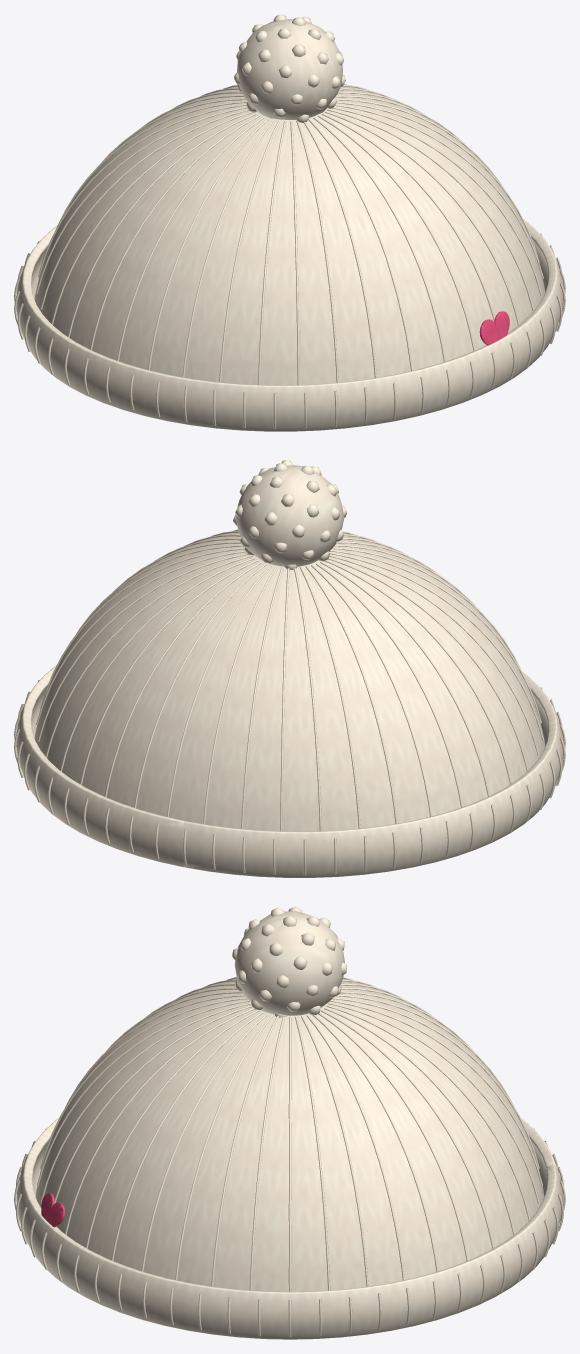
File: restart_headfinish_beanie_cloud_penguin.glb
3 renders of one model, top to bottom at view 1: azimuth 30°, elevation 25°; view 2: azimuth 150°, elevation 25°; view 3: azimuth 270°, elevation 25°, orthographic. The views are drawn at different scales.
Visible parts, largest first — view 1: Copa redondeada, Dobladillo tejido, Pompón, Punto tejido de la copa.030, Punto tejido de la copa.004, Punto tejido de la copa.005, Punto tejido de la copa.029, Punto tejido de la copa.031, Punto tejido de la copa.037, Punto tejido de la copa.036, Punto tejido de la copa.028, Punto tejido de la copa.038 (+16 smaller); view 2: Copa redondeada, Dobladillo tejido, Pompón, Punto tejido de la copa.015, Punto tejido de la copa.030, Punto tejido de la copa.031, Punto tejido de la copa.016, Punto tejido de la copa.029, Punto tejido de la copa.023, Punto tejido de la copa.017, Punto tejido de la copa.028, Punto tejido de la copa.018 (+15 smaller); view 3: Copa redondeada, Dobladillo tejido, Pompón, Punto tejido de la copa.009, Punto tejido de la copa.011, Punto tejido de la copa.018, Punto tejido de la copa.017, Punto tejido de la copa.010, Punto tejido de la copa.003, Punto tejido de la copa.004, Punto tejido de la copa.016, Punto tejido de la copa.008 (+15 smaller).
Part boxes in pixels (x1,y1,x2,y2): Copa redondeada: [34, 86, 545, 385]; Dobladillo tejido: [16, 219, 563, 431]; Pompón: [237, 19, 342, 119]; Punto tejido de la copa.030: [68, 113, 256, 337]; Punto tejido de la copa.004: [325, 111, 519, 325]; Punto tejido de la copa.005: [327, 108, 534, 311]; Punto tejido de la copa.029: [51, 111, 252, 324]; Punto tejido de la copa.031: [90, 115, 259, 350]; Punto tejido de la copa.037: [290, 120, 299, 385]; Punto tejido de la copa.036: [258, 120, 286, 384]; Punto tejido de la copa.028: [40, 109, 248, 309]; Punto tejido de la copa.038: [296, 121, 338, 382]; Copa redondeada: [34, 531, 545, 831]; Dobladillo tejido: [16, 665, 563, 877]; Pompón: [235, 465, 344, 566]; Punto tejido de la copa.015: [45, 555, 252, 757]; Punto tejido de la copa.030: [325, 560, 511, 784]; Punto tejido de la copa.031: [328, 557, 528, 771]; Punto tejido de la copa.016: [60, 557, 254, 771]; Punto tejido de la copa.029: [320, 561, 489, 796]; Punto tejido de la copa.023: [280, 568, 289, 831]; Punto tejido de la copa.017: [80, 559, 258, 784]; Punto tejido de la copa.028: [316, 563, 462, 807]; Punto tejido de la copa.018: [104, 561, 261, 797]; Copa redondeada: [35, 978, 544, 1291]; Dobladillo tejido: [16, 1117, 563, 1339]; Pompón: [234, 911, 344, 1015]; Punto tejido de la copa.009: [249, 1016, 284, 1290]; Punto tejido de la copa.011: [295, 1016, 330, 1290]; Punto tejido de la copa.018: [326, 1005, 530, 1220]; Punto tejido de la copa.017: [324, 1007, 514, 1234]; Punto tejido de la copa.010: [288, 1016, 291, 1291]; Punto tejido de la copa.003: [65, 1008, 254, 1234]; Punto tejido de la copa.004: [86, 1010, 258, 1248]; Punto tejido de la copa.016: [321, 1009, 493, 1248]; Punto tejido de la copa.008: [211, 1016, 278, 1286].
Size of the model in its own units: 0.7581 by 0.4579 by 0.7282.
2 materials, 2 textured.
